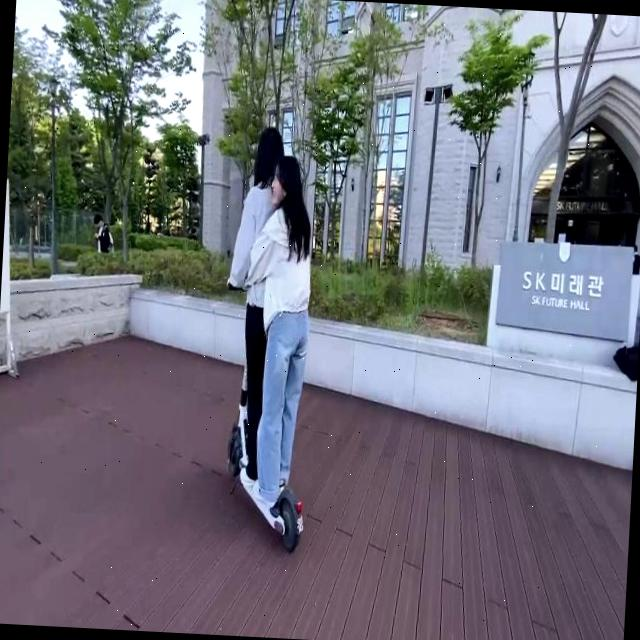bare_head: (244, 125, 295, 189), (260, 153, 310, 209)
human: (223, 124, 297, 475), (254, 156, 322, 501)
kickboard: (221, 407, 314, 553)
